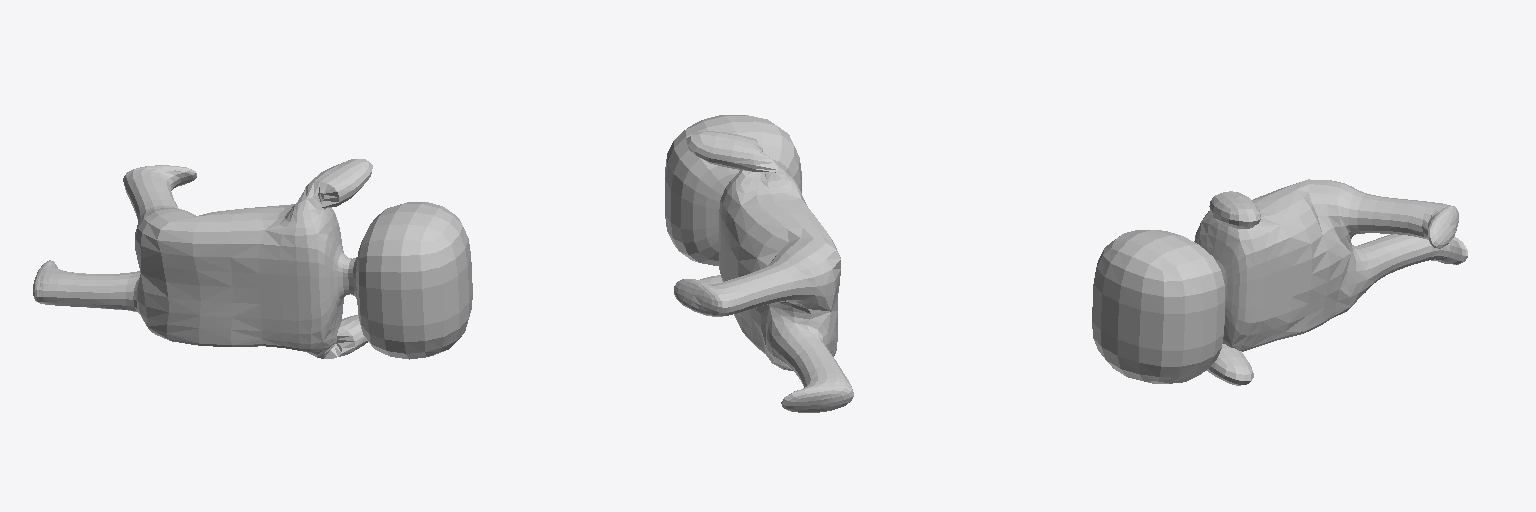
The model's file is antman_push_15.obj.
3 views of the same model, side by side, from view 1: azimuth 30°, elevation 25°; view 2: azimuth 150°, elevation 25°; view 3: azimuth 270°, elevation 25° (orthographic).
Visible parts, largest first — view 1: Cube; view 2: Cube; view 3: Cube.
Part boxes in pixels (x1,y1,x2,y2): Cube: (33, 159, 472, 359); Cube: (665, 115, 853, 412); Cube: (1092, 179, 1467, 385).
Bounding box in the file's own units: 1.51 × 0.8339 × 1.6.